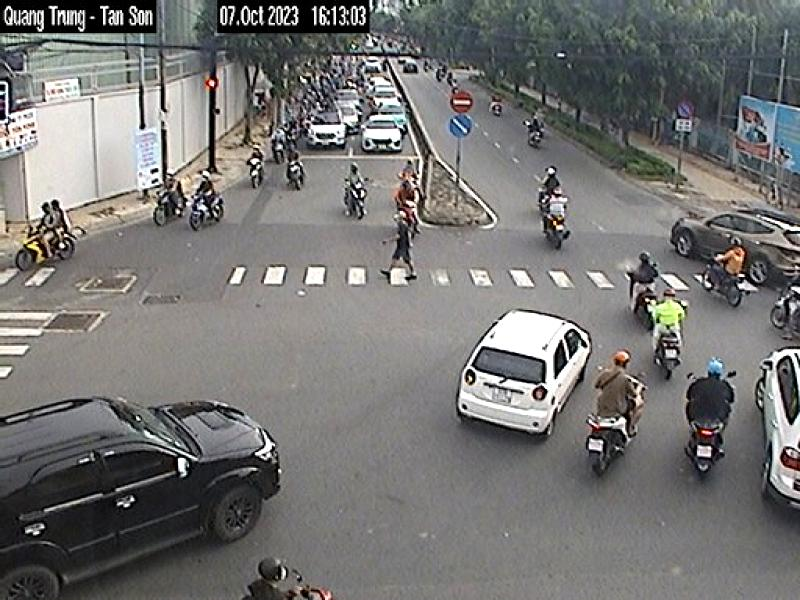car: (0, 394, 283, 599), (458, 316, 594, 439), (670, 211, 800, 291), (757, 350, 800, 521)
motorcycle: (588, 412, 631, 476), (686, 416, 725, 480)
